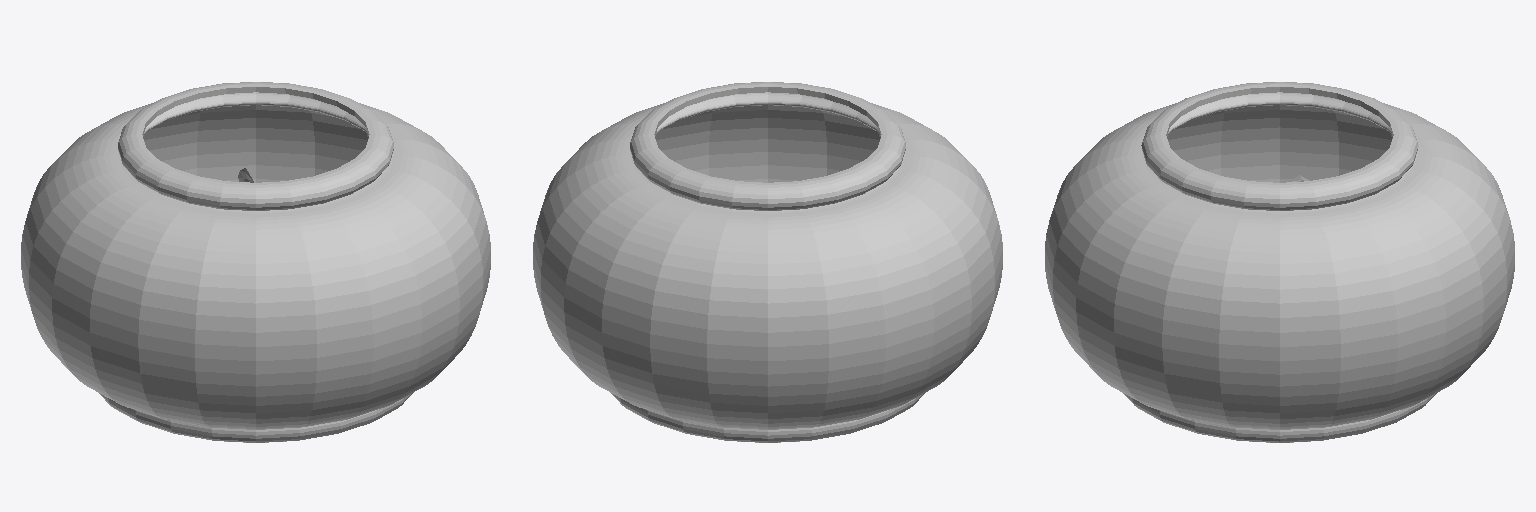
File: FishandCastleInBowl.obj
3 renders of one model, left to right at view 1: azimuth 30°, elevation 25°; view 2: azimuth 150°, elevation 25°; view 3: azimuth 270°, elevation 25°, orthographic.
Parts seen in each view (by area): view 1: FishBowl; view 2: FishBowl; view 3: FishBowl.
Boxes of the visible parts, x1=… form: FishBowl: x1=21, y1=82, x2=490, y2=442; FishBowl: x1=533, y1=82, x2=1002, y2=442; FishBowl: x1=1045, y1=82, x2=1514, y2=442.
Size of the model in its own units: 23.1 by 13.15 by 23.1.